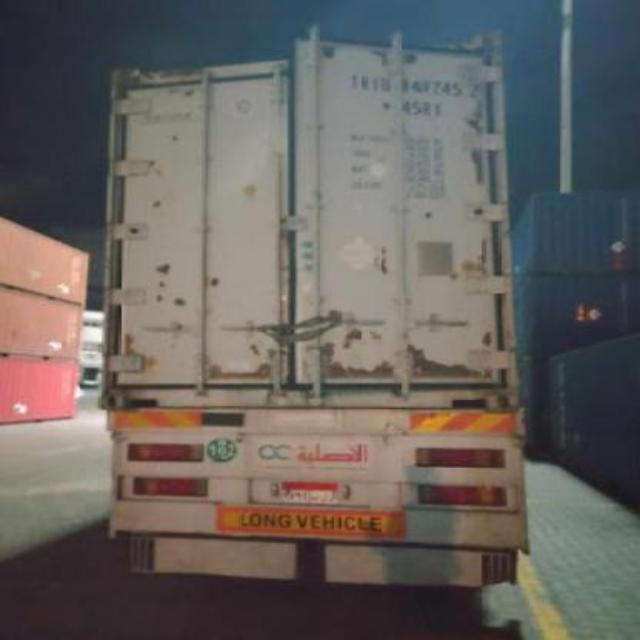2: (470, 85, 480, 98)
4: (442, 80, 452, 96), (414, 78, 422, 92)
5: (450, 81, 466, 99)
7: (430, 80, 442, 94)
8: (400, 80, 412, 92)
9: (422, 80, 432, 94)
I: (372, 75, 382, 93)
R: (360, 73, 372, 91)
T: (350, 73, 358, 91)
U: (382, 76, 392, 92)
